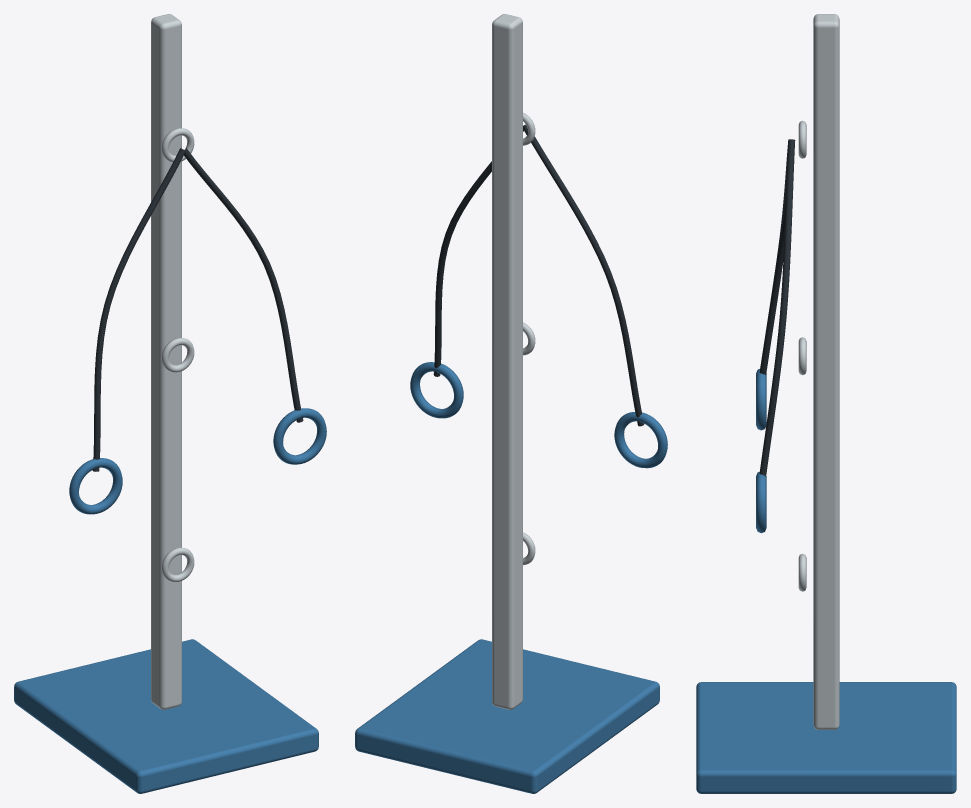
Rendered from squash-club-and-racket-workshop-resistance-band-statio-854fd051.glb.
The picture shows the model from 3 angles, left to right: view 1: azimuth 30°, elevation 25°; view 2: azimuth 150°, elevation 25°; view 3: azimuth 270°, elevation 25°; orthographic projection. The views are drawn at different scales.
Parts seen in each view (by area): view 1: resistance-band-station; view 2: resistance-band-station; view 3: resistance-band-station.
Part boxes in pixels (x1,y1,x2,y2): resistance-band-station: (14,14,326,793); resistance-band-station: (355,14,667,793); resistance-band-station: (696,14,956,793).
Bounding box in the file's own units: 0.704 × 1.86 × 0.6.
